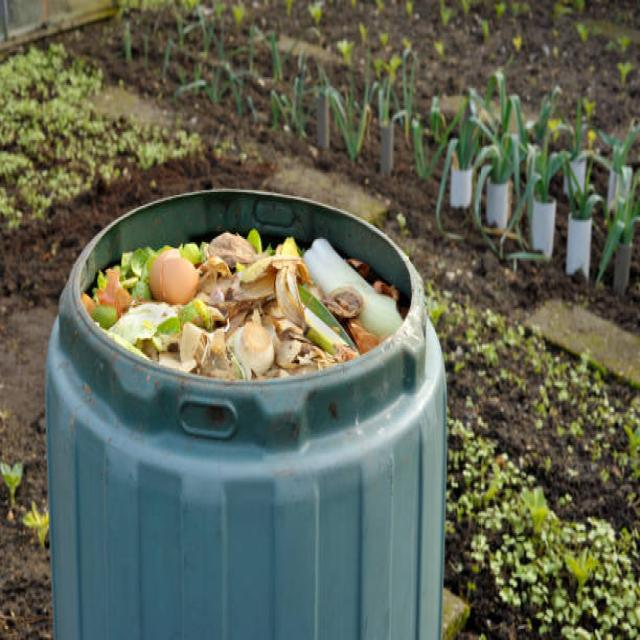Organic: (95, 229, 409, 385)
